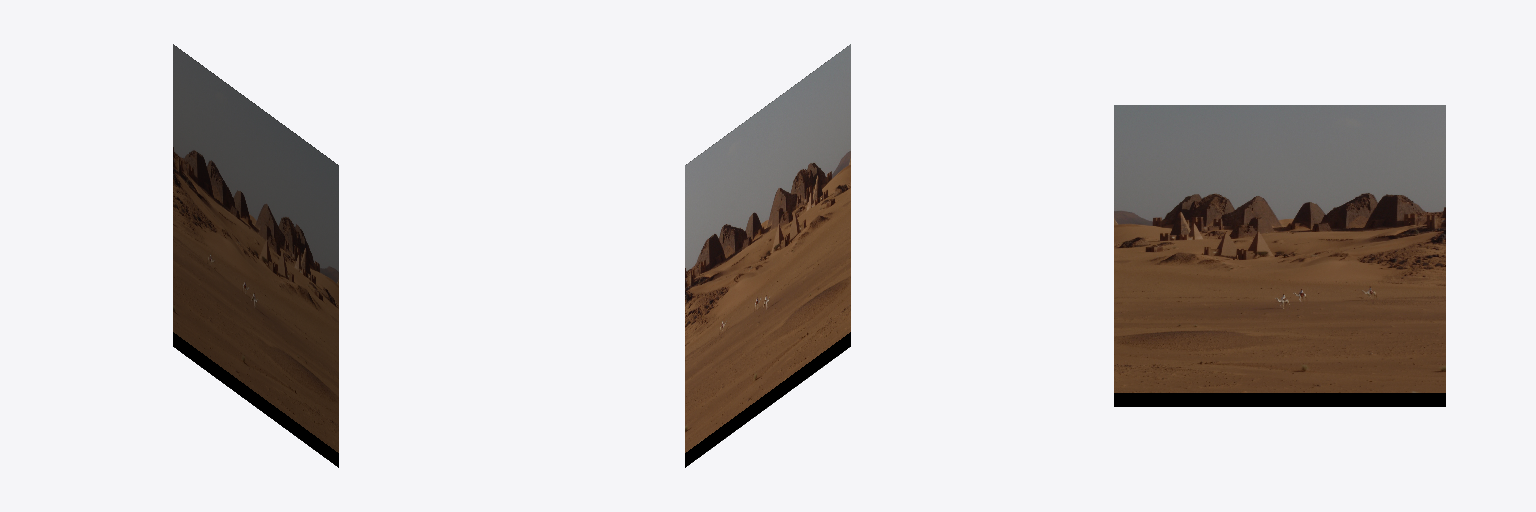
3 renders of one model, left to right at view 1: azimuth 30°, elevation 25°; view 2: azimuth 150°, elevation 25°; view 3: azimuth 270°, elevation 25°, orthographic.
Visible parts, largest first — view 1: pPlane1; view 2: pPlane1; view 3: pPlane1.
Part boxes in pixels (x1,y1,x2,y2): pPlane1: (173, 44, 338, 467); pPlane1: (685, 44, 850, 467); pPlane1: (1114, 105, 1445, 406).
Size of the model in its own units: 0 by 16.8 by 16.69.
Materials: 1 (1 with a texture image).